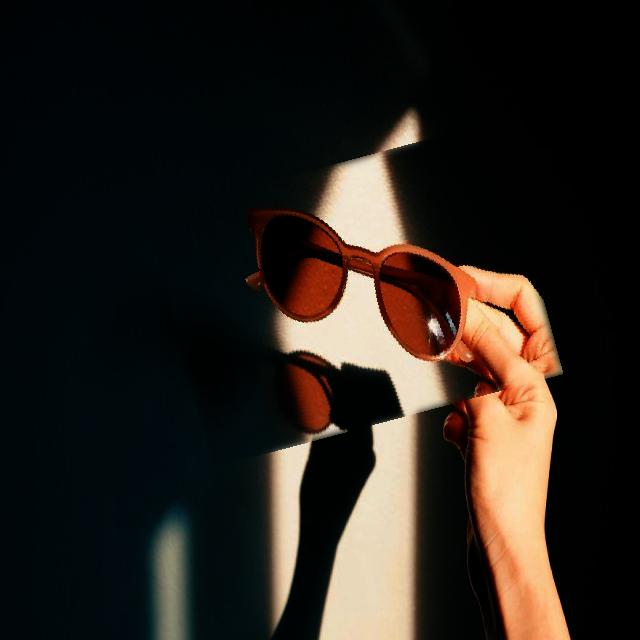glasses: (159, 143, 550, 447)
